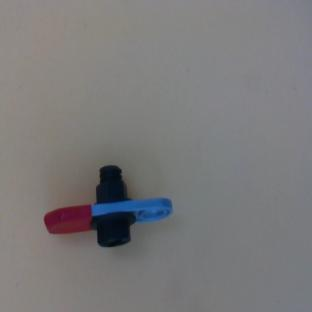part_1_good: (36, 146, 177, 275)
